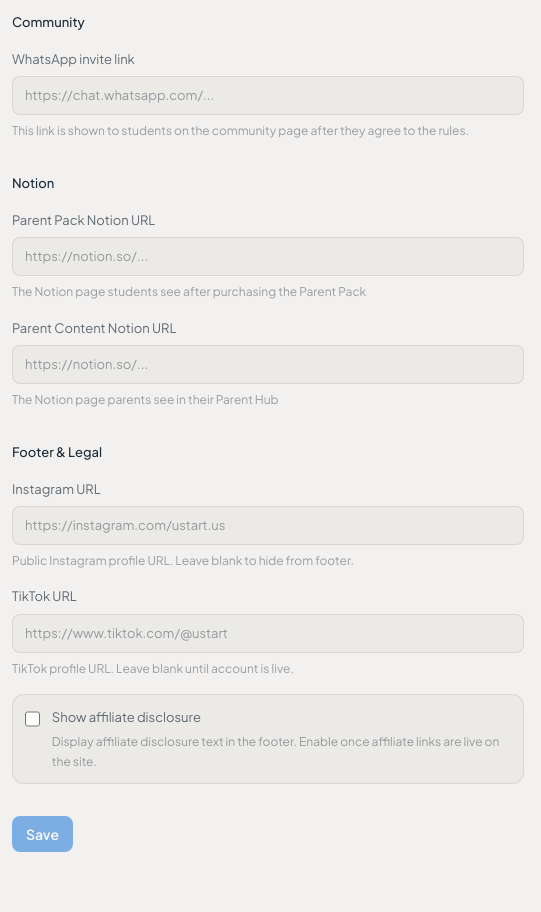
Test: SettingsForm › shows error message on failure
In the field labelled "WhatsApp invite link": x=268, y=96 [12,76,524,115], type "https://chat.whatsapp.com/new"
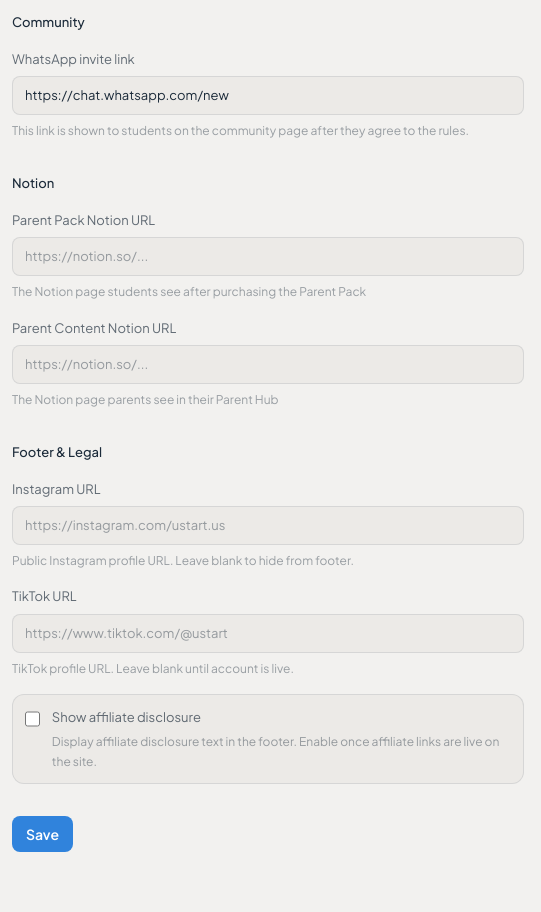
Submit the form named "save"
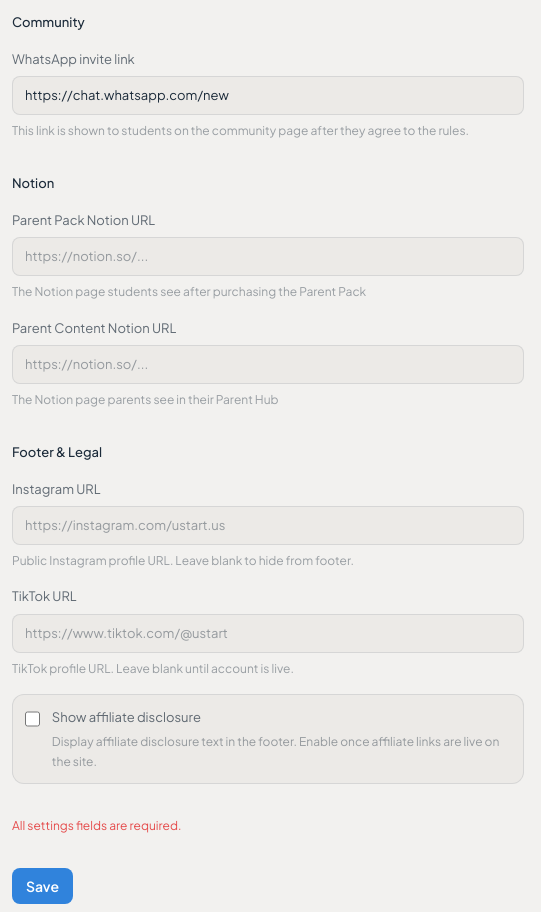
Result: the text "All settings fields are required." is shown at [12,818,181,833]
